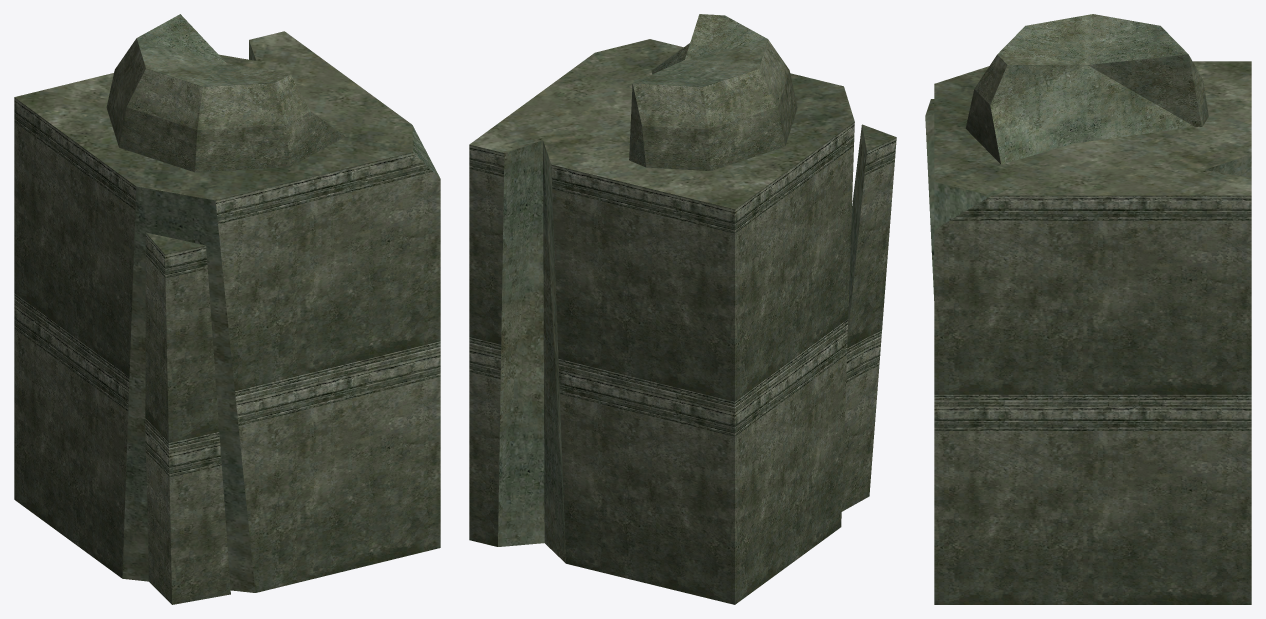
Rendered from thm_dant_jedi_temple_pillar_base_l1.fbx.
3 renders of one model, left to right at view 1: azimuth 30°, elevation 25°; view 2: azimuth 150°, elevation 25°; view 3: azimuth 270°, elevation 25°, orthographic. The views are drawn at different scales.
Parts seen in each view (by area): view 1: mesh_node; view 2: mesh_node; view 3: mesh_node.
Boxes of the visible parts, x1,y1,x2,y2 form: mesh_node: (14, 14, 440, 604); mesh_node: (469, 14, 896, 604); mesh_node: (925, 14, 1251, 604).
Bounding box in the file's own units: 2.05 × 3.36 × 2.06.
